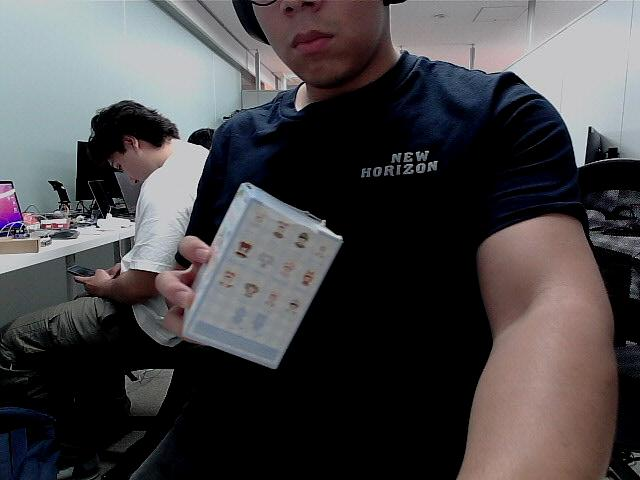Blind_box: (180, 182, 344, 374)
